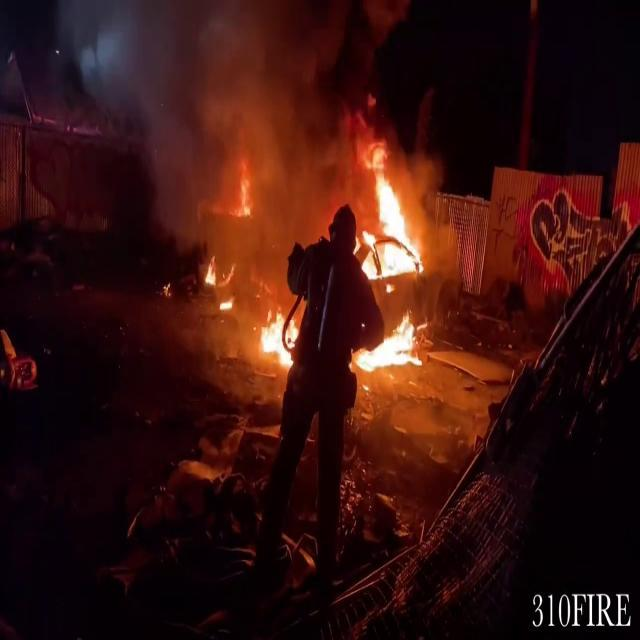Fire: (347, 147, 434, 377), (253, 300, 300, 368)
Smoke: (82, 0, 390, 224)
